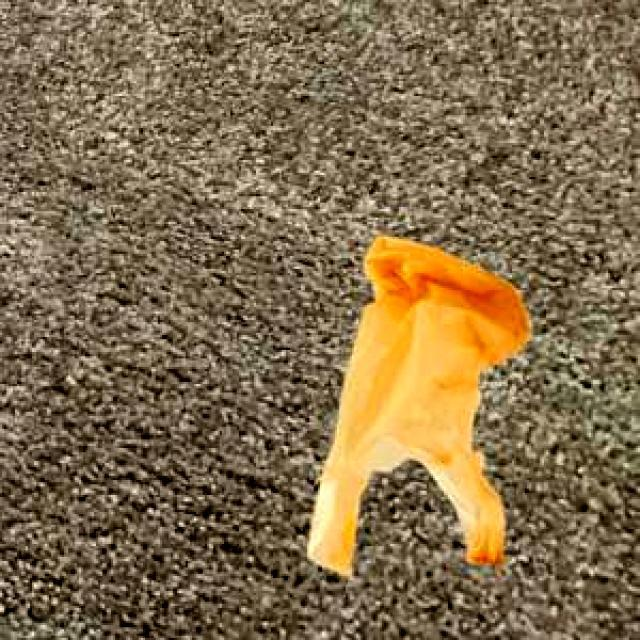Plastic_Bag: (304, 233, 528, 572)
